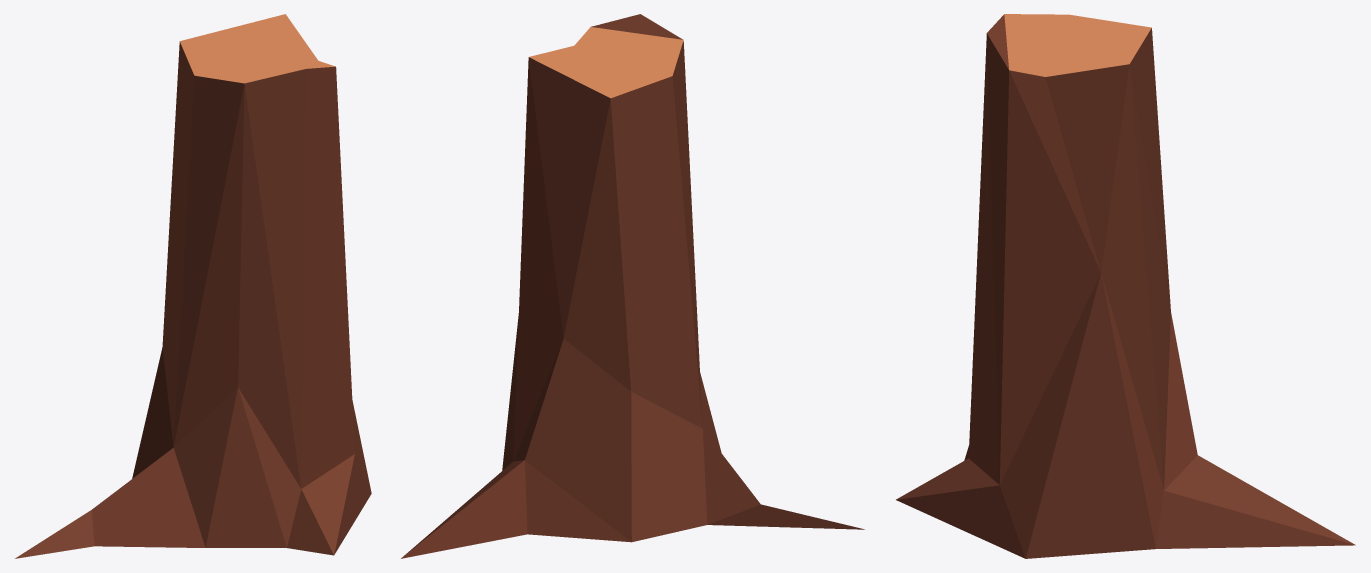
The model's file is pine_trunk_type_6_LOD2.fbx.
3 views of the same model, side by side, from view 1: azimuth 30°, elevation 25°; view 2: azimuth 150°, elevation 25°; view 3: azimuth 270°, elevation 25° (orthographic). The views are drawn at different scales.
Visible parts, largest first — view 1: pt_type_6.001; view 2: pt_type_6.001; view 3: pt_type_6.001.
Boxes of the visible parts, left/top/right/bottom form: pt_type_6.001: left=15, top=14, right=371, bottom=558; pt_type_6.001: left=401, top=14, right=864, bottom=558; pt_type_6.001: left=896, top=14, right=1355, bottom=558.
Size of the model in its own units: 335 by 423 by 366.
